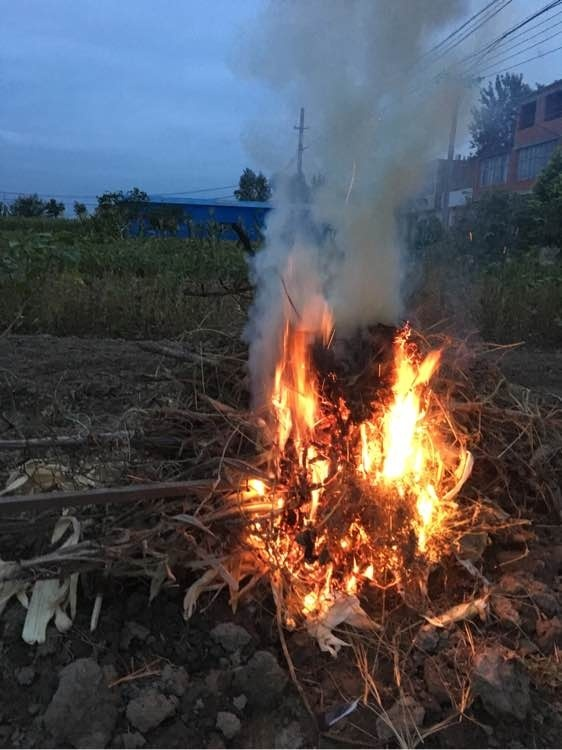fire: (239, 274, 467, 614)
